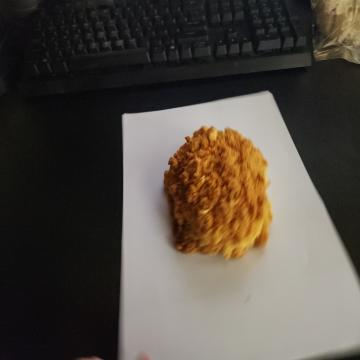soboru_bread: (161, 123, 275, 262)
